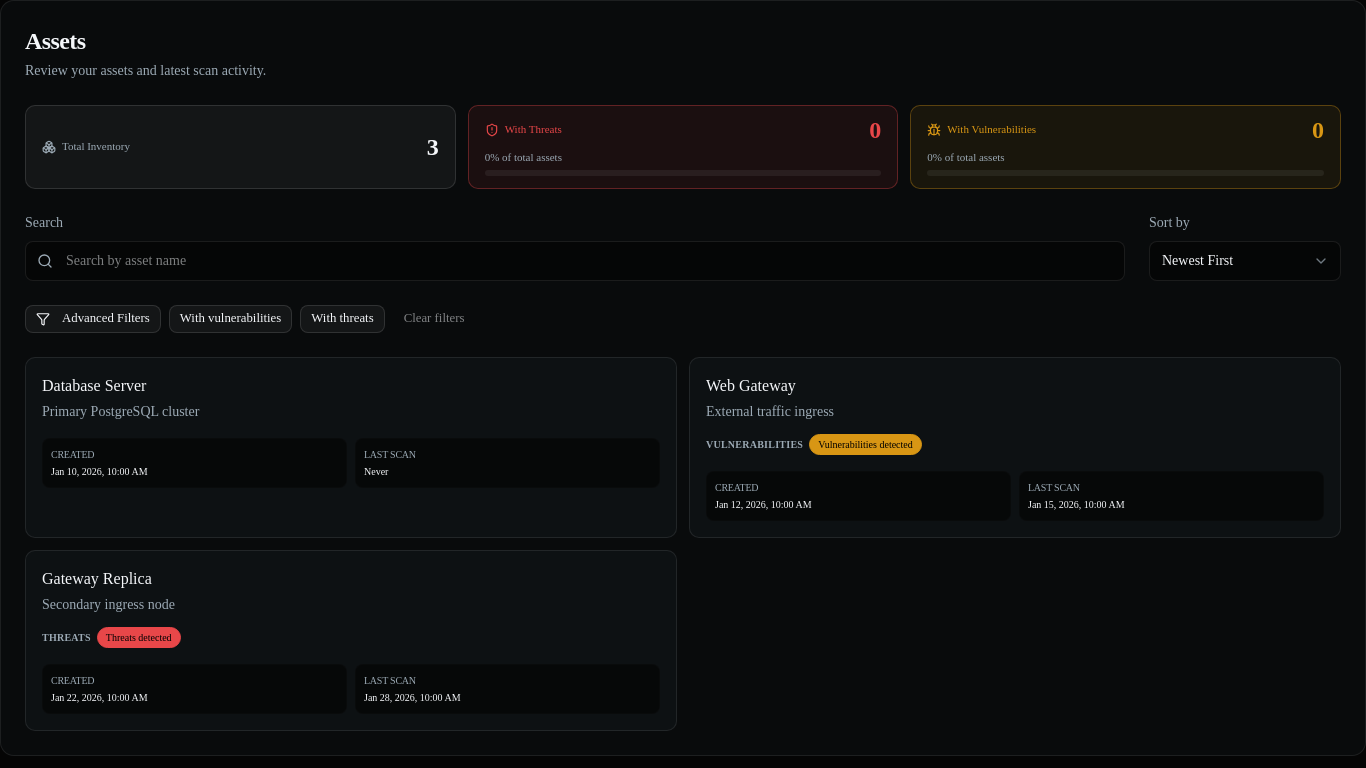
Test: AssetsList › disables Apply button when date range is invalid
Step 1. Click the button "Advanced Filters" → (93, 319), box 25,305 -> 161,333
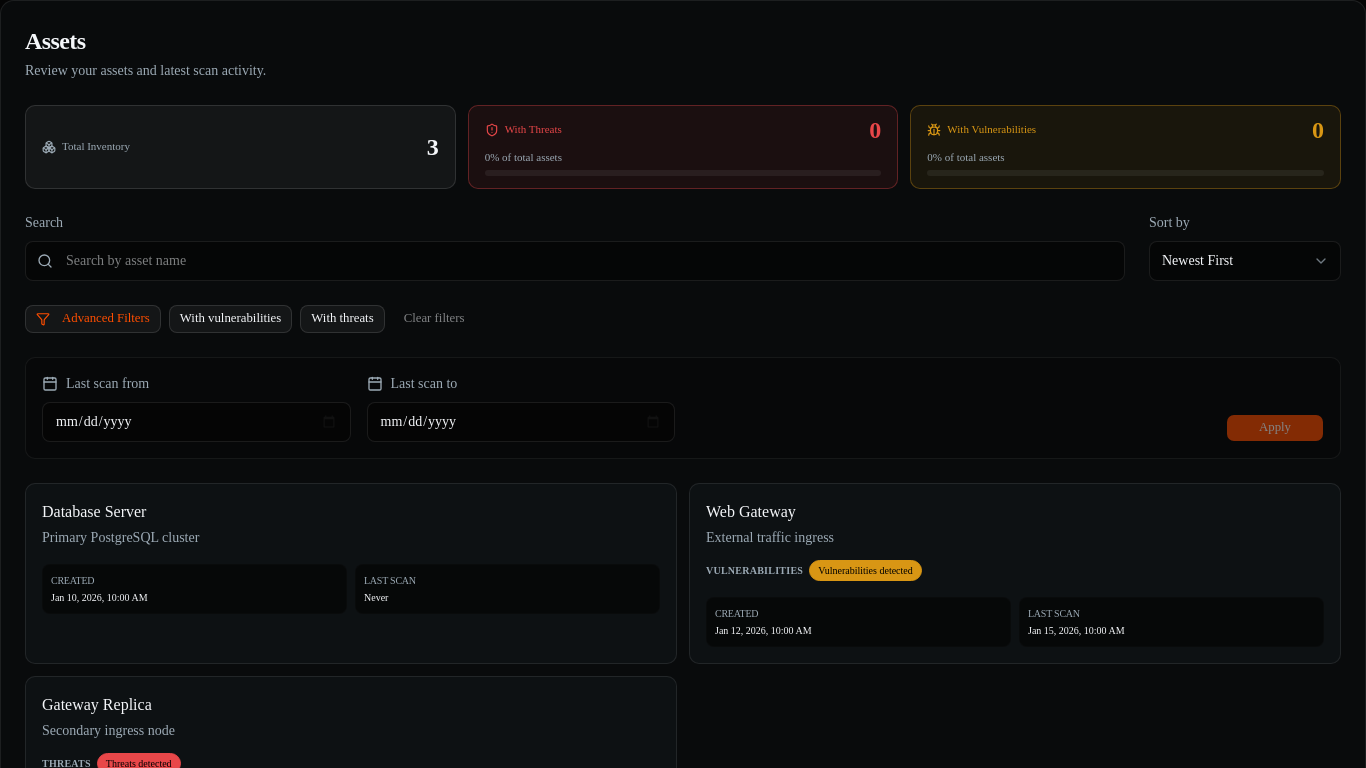
Step 2. Type "2026-02-01" into the date field labelled "Last scan from" → (196, 422), box 42,402 -> 350,442
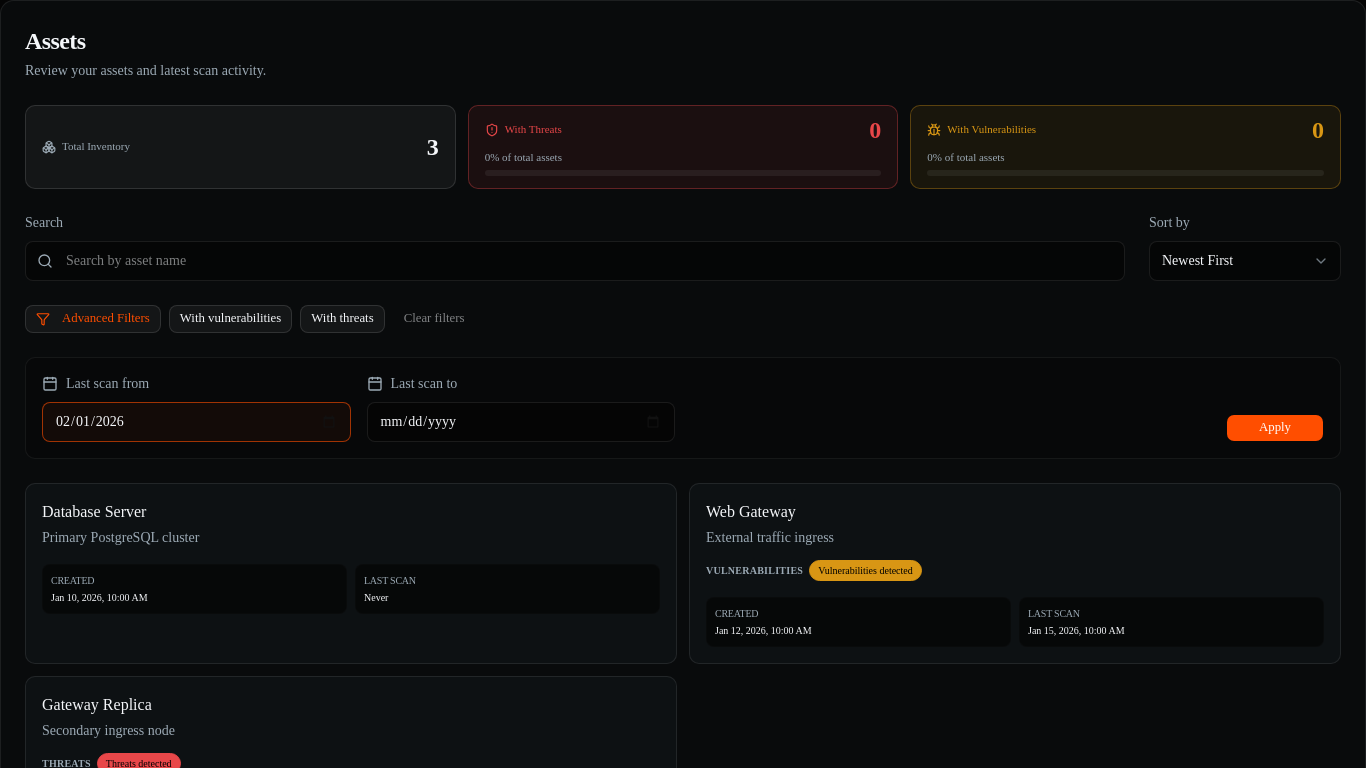
Step 3. Type "2026-01-01" into the date field labelled "Last scan to" → (521, 422), box 366,402 -> 675,442
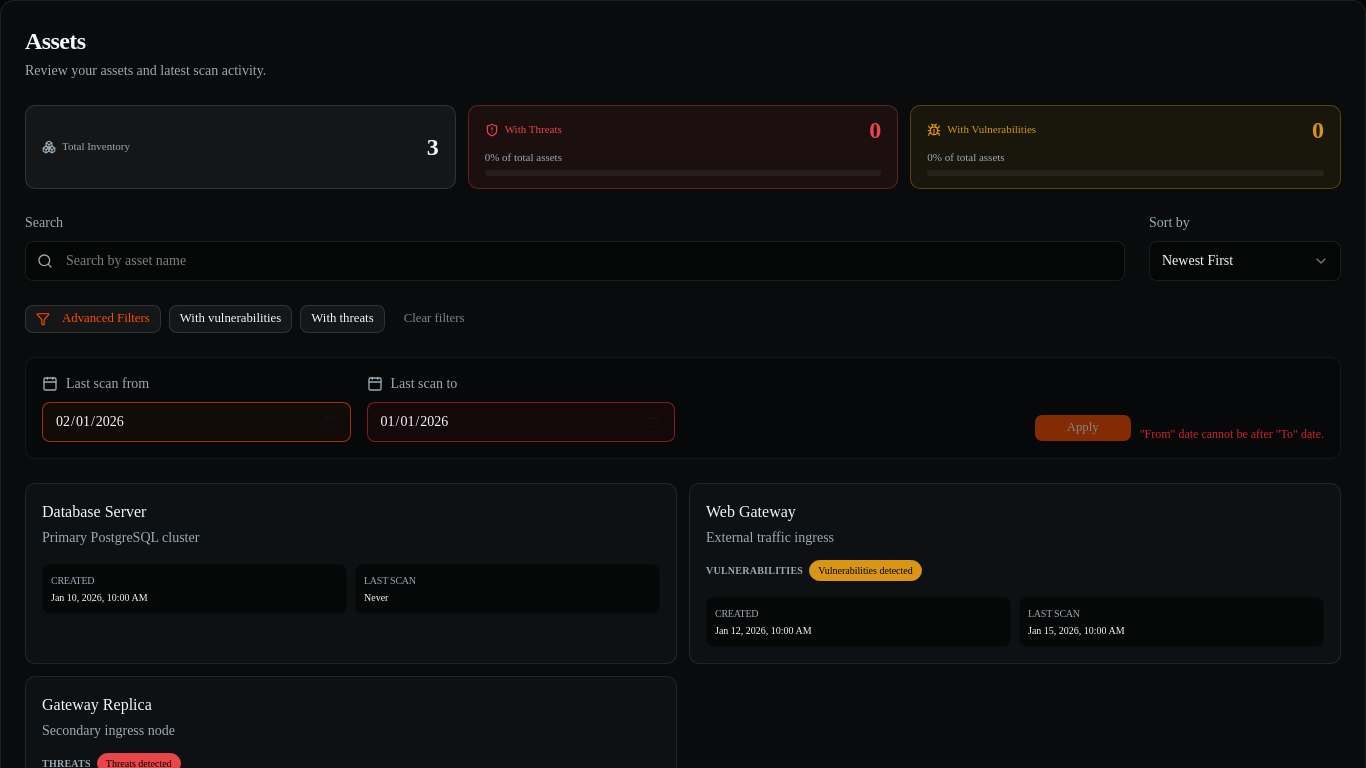
Expected: the button "Apply" is disabled, 1034,414 -> 1132,442
Expected: the text "\"From\" date cannot be after \"To\" date." is shown, 1140,426 -> 1324,442
